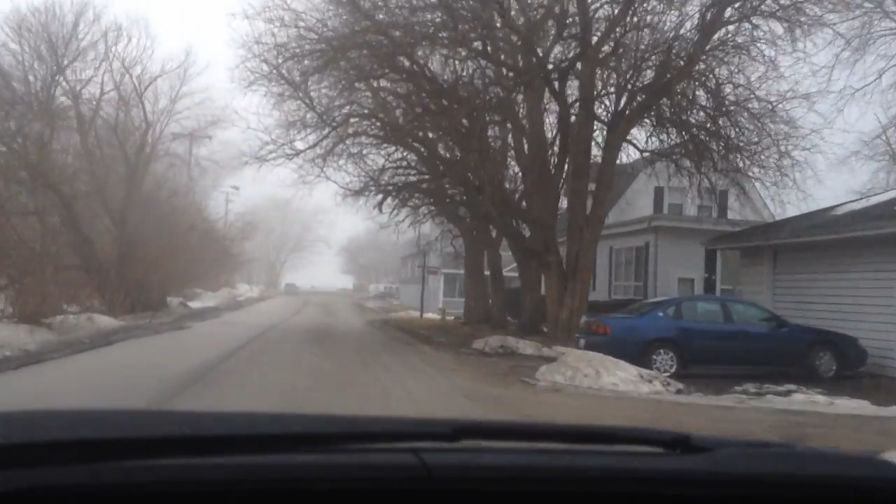car: (573, 293, 871, 378), (282, 281, 299, 296)
